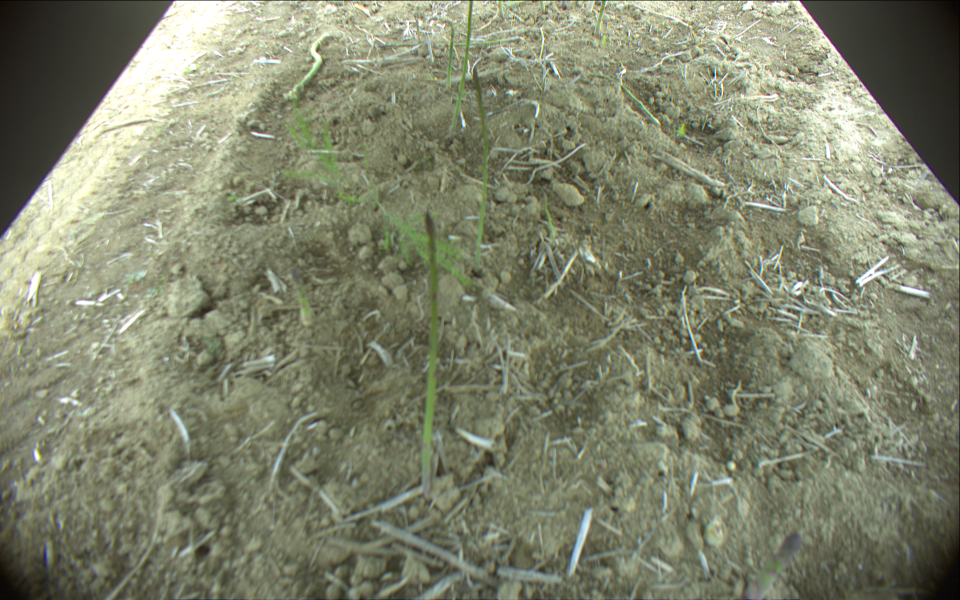aspa: (420, 208, 439, 501), (283, 32, 342, 98), (449, 1, 478, 135), (747, 531, 802, 600), (473, 68, 487, 264), (617, 85, 664, 129), (378, 35, 522, 47), (291, 264, 313, 327), (541, 193, 559, 251), (445, 26, 458, 90), (594, 1, 606, 36)
